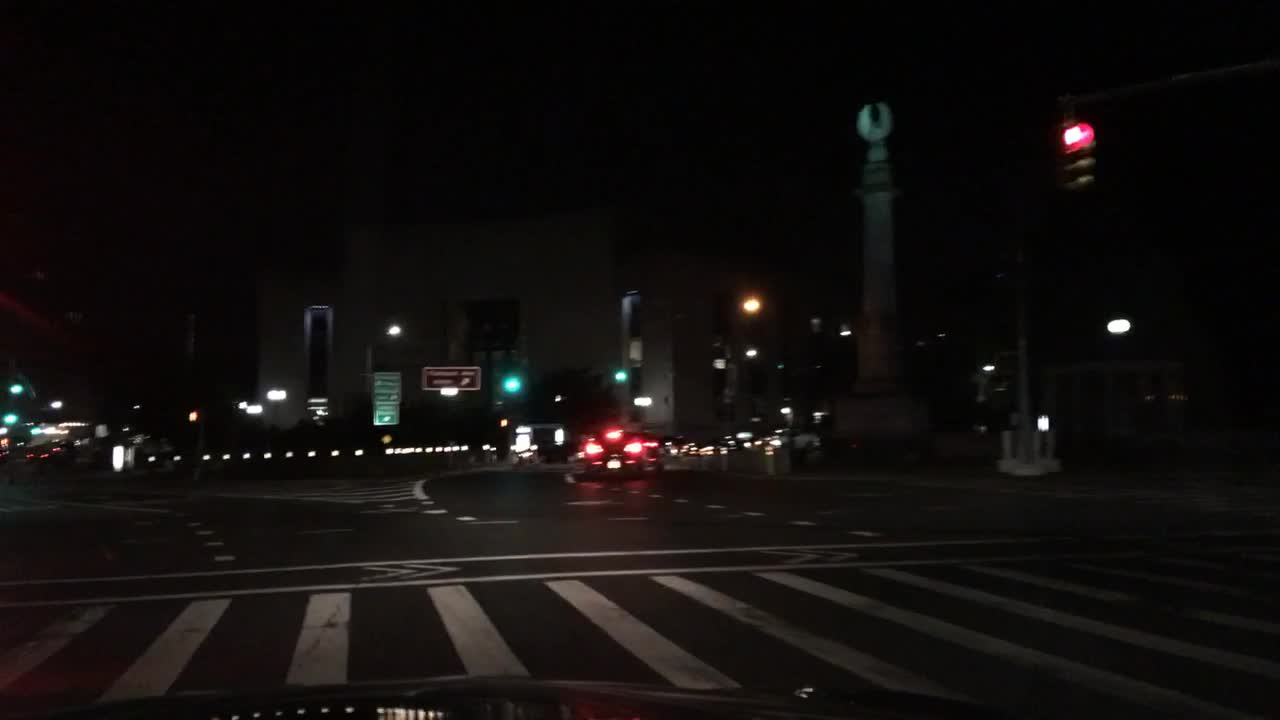car: (580, 425, 647, 478), (756, 430, 818, 452), (646, 436, 666, 465), (683, 440, 717, 455), (666, 436, 687, 452), (714, 442, 732, 454)
traffic light: (1059, 113, 1093, 191), (498, 367, 522, 396), (9, 380, 26, 401), (184, 405, 198, 424), (0, 414, 17, 428), (615, 364, 625, 385)
traffic sign: (421, 362, 482, 390), (375, 368, 401, 397), (375, 399, 400, 426)
